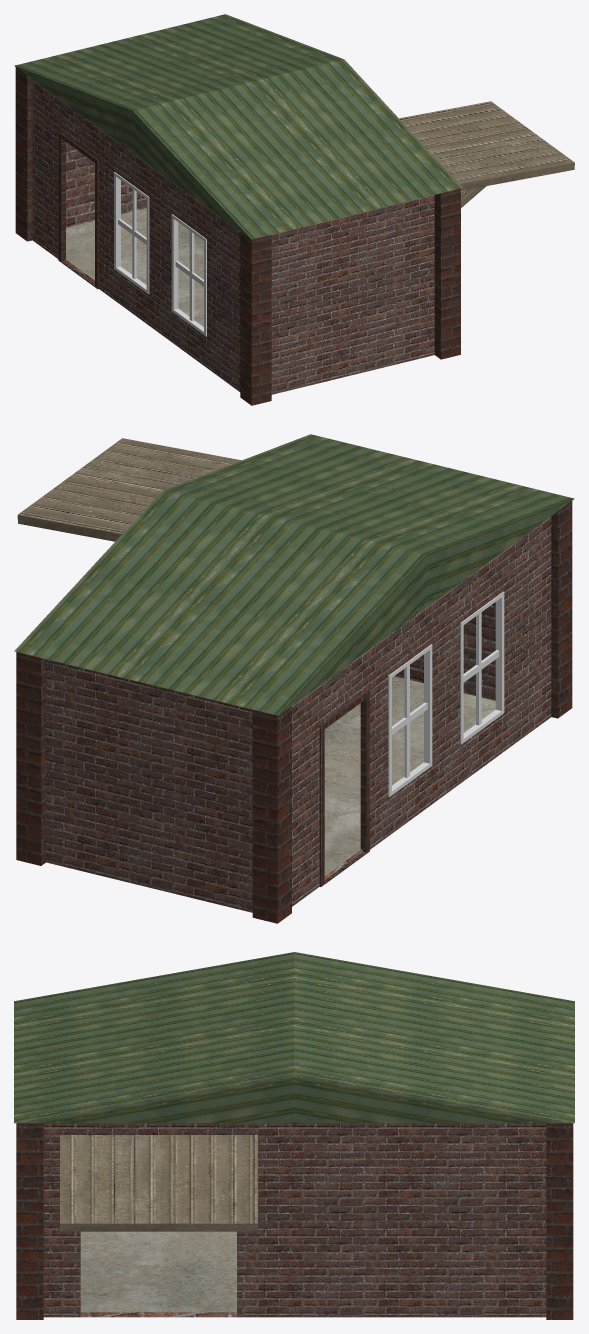
The model's file is building 4 redo.fbx.
The picture shows the model from 3 angles, top to bottom: view 1: azimuth 30°, elevation 25°; view 2: azimuth 150°, elevation 25°; view 3: azimuth 270°, elevation 25°; orthographic projection. The views are drawn at different scales.
Parts seen in each view (by area): view 1: Plane, Cube.009, Cube.001, Cube.004, Cube.017, Cube.013, Cube.016, Cube.014, Cube.015; view 2: Plane, Cube.009, Cube.001, Cube.004, Cube.017, Cube.013, Cube.014, Cube.016, Cube.015; view 3: Plane, Cube.009, Cube.004, Cube.017, Cube.001, Cube.016.
Part boxes in pixels (x1,y1,x2,y2): Plane: (14,14,462,239); Cube.009: (32,80,434,394); Cube.001: (15,67,460,405); Cube.004: (399,101,574,190); Cube.017: (65,208,203,326); Cube.013: (114,172,206,336); Cube.016: (64,142,146,283); Cube.014: (58,131,98,289); Cube.015: (118,189,203,321); Plane: (14,434,574,715); Cube.009: (46,516,551,912); Cube.001: (16,501,572,923); Cube.004: (17,438,241,541); Cube.017: (324,676,495,875); Cube.013: (388,591,504,797); Cube.014: (319,690,369,886); Cube.016: (324,602,495,879); Cube.015: (392,612,499,777); Plane: (14,952,574,1123); Cube.009: (43,1123,546,1317); Cube.004: (60,1135,257,1231); Cube.017: (80,1231,236,1312); Cube.001: (16,1123,573,1319); Cube.016: (80,1312,236,1317).
Size of the model in its own units: 1721 by 1002 by 2064.
